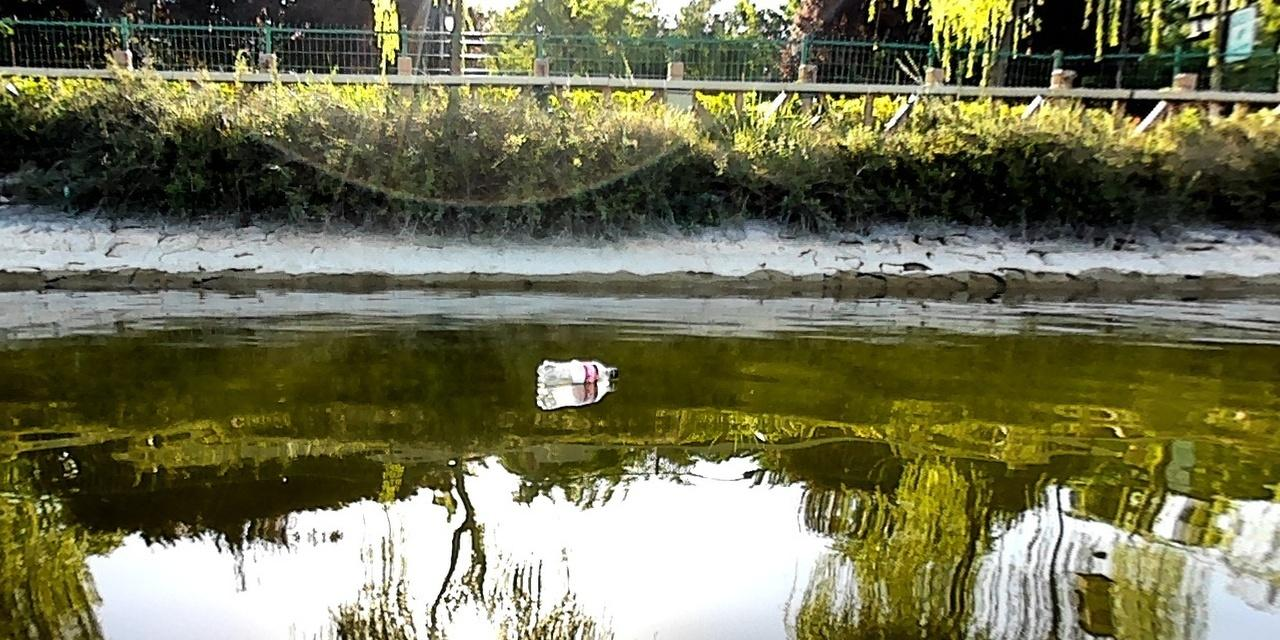bottle: (533, 355, 620, 386)
